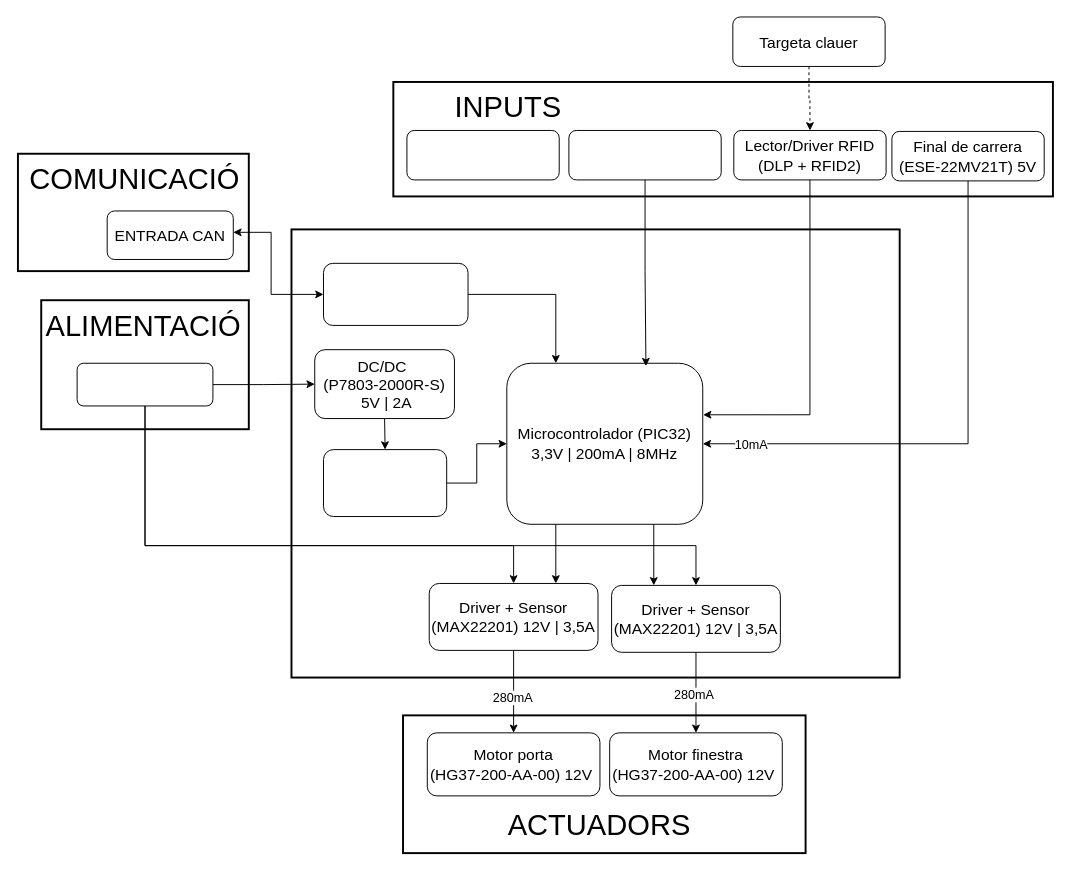
Some shapes in this 1070 by 871 pixel diagram are drawn without their labels. The centre of each missing label's shape, as x and y in pixels:
"BATERIA DE 12V" belongs at pixel 144 384.
"Botonera" belongs at pixel 482 154.
"Entrada programació (ICSP)" belongs at pixel 644 154.
"LDO (LT1528) 3.3V | 3A" belongs at pixel 385 483.
"Transciever CAN ( TCAN341x ) 3,3V" belongs at pixel 395 293.
